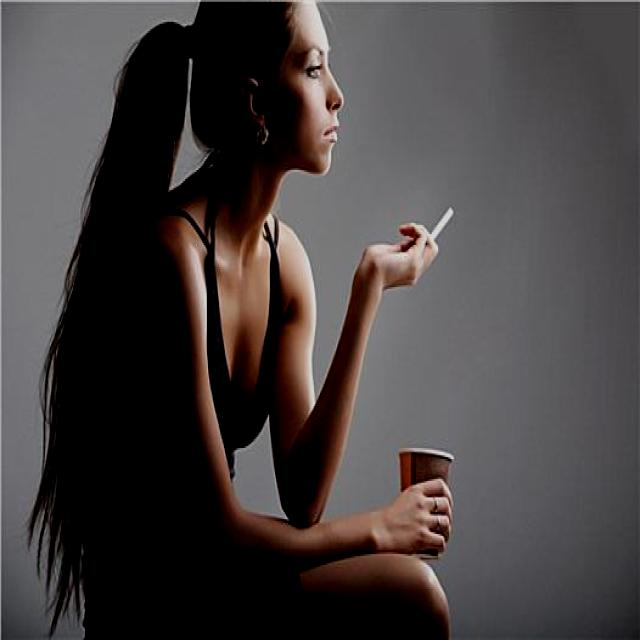smoke: (420, 202, 456, 255)
